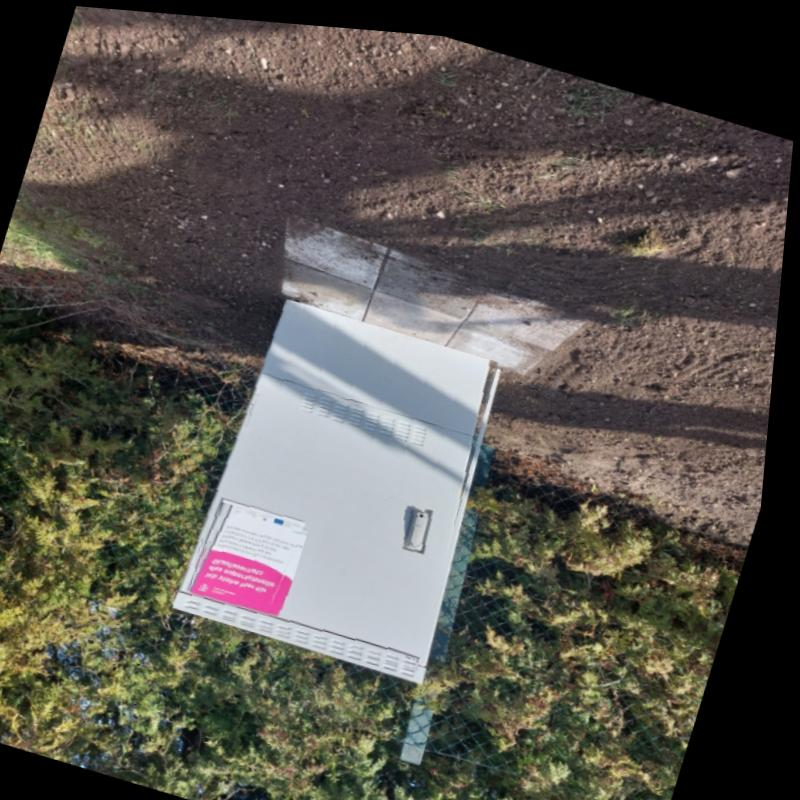NT-Gehause: (185, 294, 502, 663)
Steaker: (201, 499, 318, 612)
